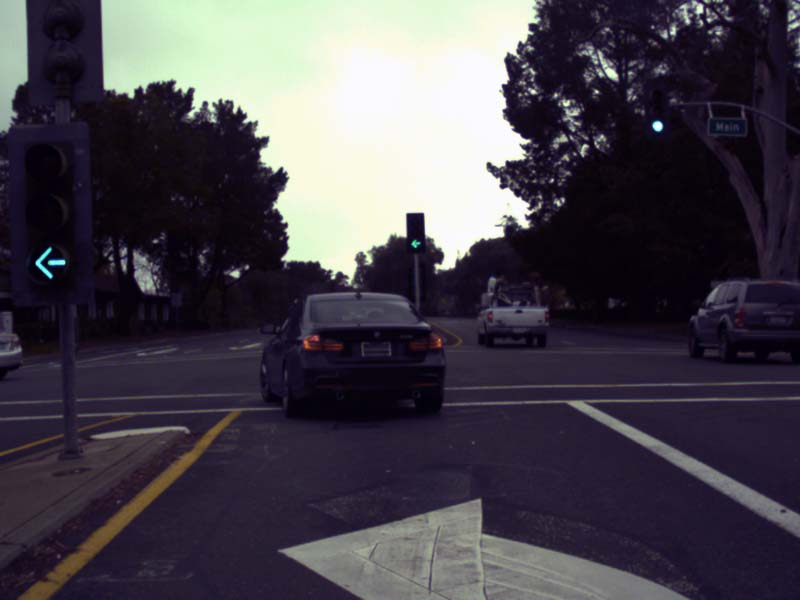Green: (7, 124, 90, 299), (644, 85, 667, 136), (406, 213, 424, 252)
